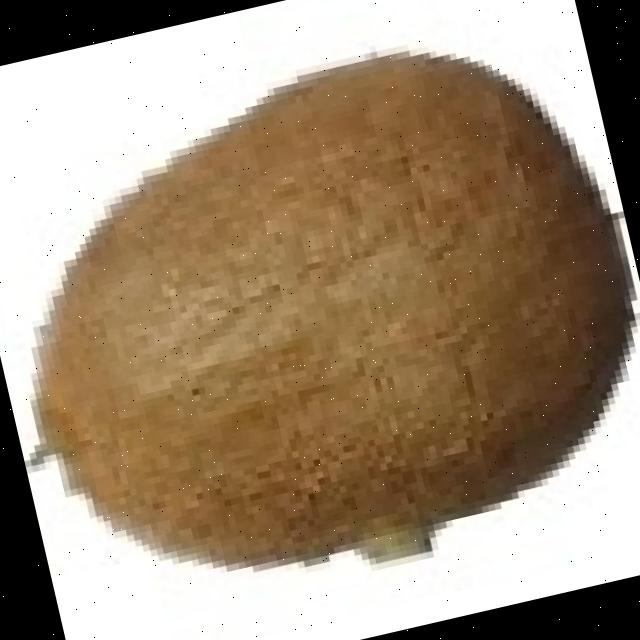kiwi: (27, 48, 618, 554)
